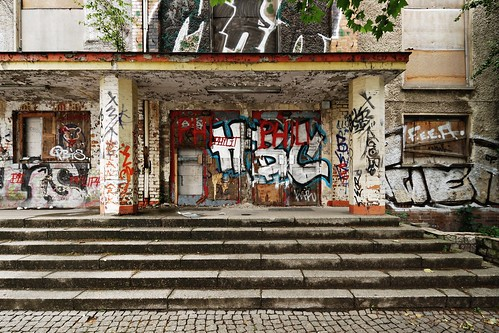graffiti: (165, 111, 346, 206), (149, 1, 344, 61), (384, 122, 499, 209), (1, 113, 94, 210), (349, 86, 387, 213), (101, 91, 137, 212)
